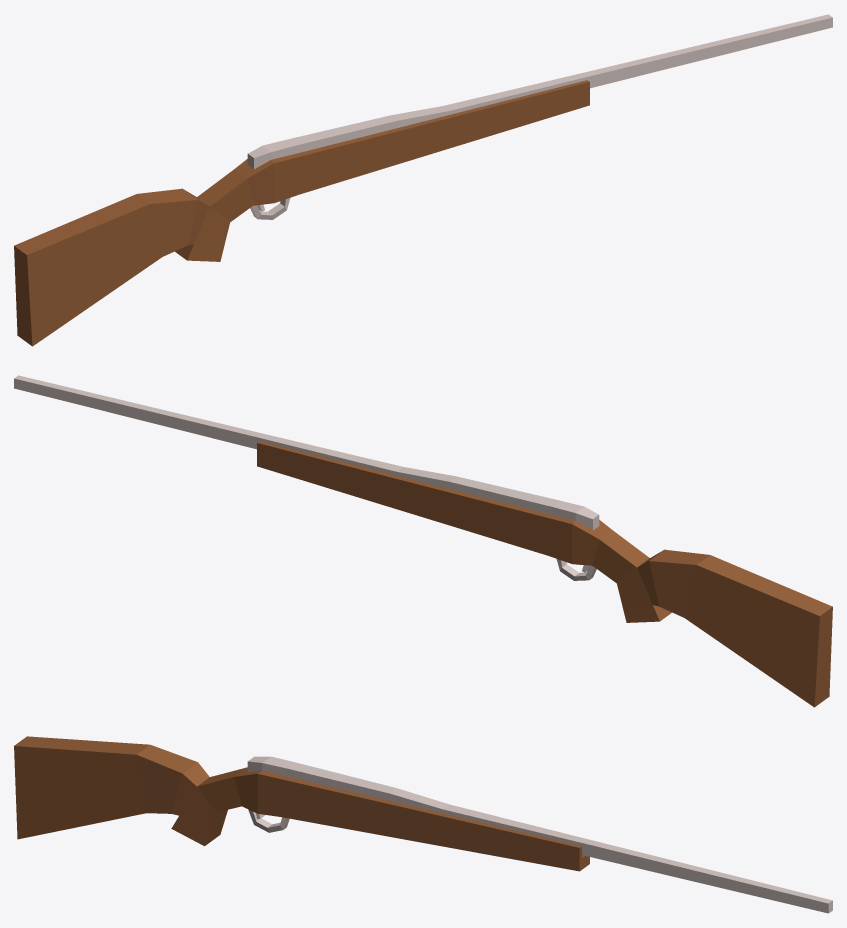
Rendered from Rifle.fbx.
3 views of the same model, one above another, from view 1: azimuth 30°, elevation 25°; view 2: azimuth 150°, elevation 25°; view 3: azimuth 330°, elevation 25° (orthographic).
Visible parts, largest first — view 1: Rifle; view 2: Rifle; view 3: Rifle.
Boxes of the visible parts, left/top/right/bottom form: Rifle: left=14, top=14, right=832, bottom=346; Rifle: left=14, top=375, right=832, bottom=707; Rifle: left=14, top=736, right=832, bottom=913.
Bounding box in the file's own units: 1.09 × 0.1721 × 0.0397.
